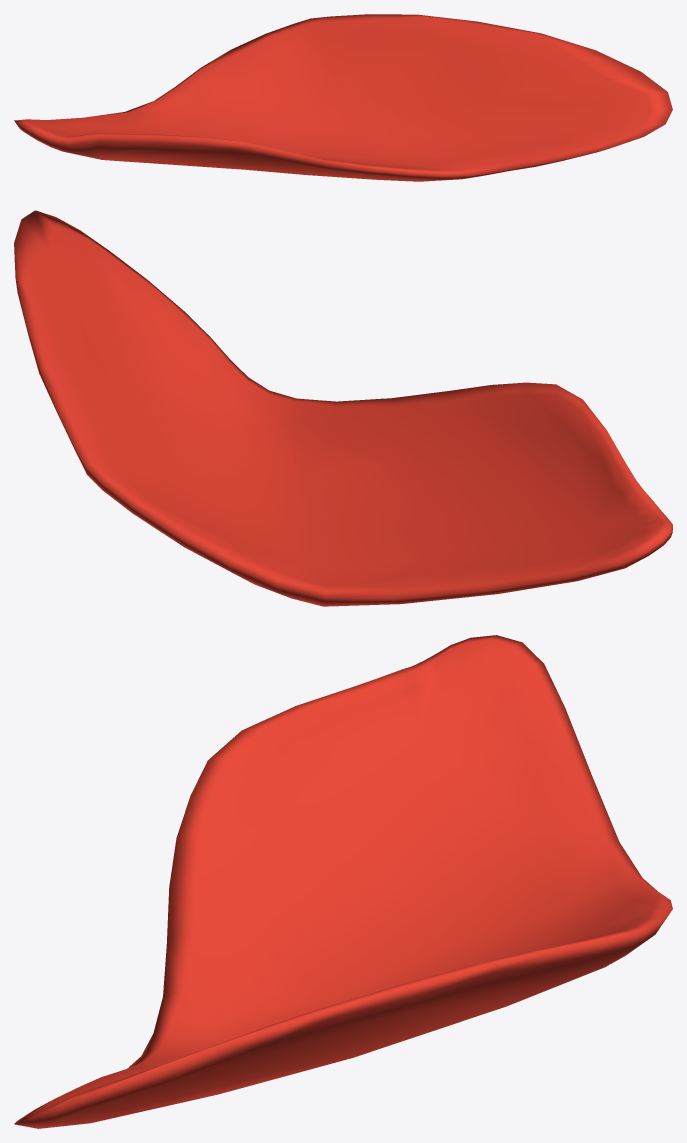
The model's file is Semimembranosus_ischiatic_insertion_right.glb.
3 renders of one model, top to bottom at view 1: azimuth 30°, elevation 25°; view 2: azimuth 150°, elevation 25°; view 3: azimuth 270°, elevation 25°, orthographic. The views are drawn at different scales.
Visible parts, largest first — view 1: Semimembranosus_muscle-Ischiatic_insertion.r_Generated_Mesh_; view 2: Semimembranosus_muscle-Ischiatic_insertion.r_Generated_Mesh_; view 3: Semimembranosus_muscle-Ischiatic_insertion.r_Generated_Mesh_.
Part boxes in pixels (box(x1,y1,x2,y2)): Semimembranosus_muscle-Ischiatic_insertion.r_Generated_Mesh_: box(14, 14, 672, 181); Semimembranosus_muscle-Ischiatic_insertion.r_Generated_Mesh_: box(14, 210, 672, 606); Semimembranosus_muscle-Ischiatic_insertion.r_Generated_Mesh_: box(14, 635, 672, 1128).
Bounding box in the file's own units: 0.0207 × 0.00354 × 0.0126.
